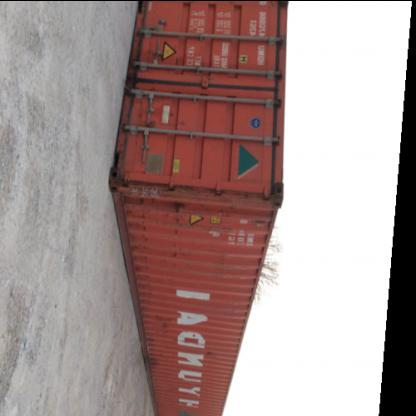Damage: (137, 194, 156, 266), (172, 198, 186, 264), (216, 202, 247, 226), (149, 340, 165, 380), (166, 106, 189, 130), (160, 310, 178, 338), (143, 113, 159, 133), (207, 343, 214, 363), (190, 328, 200, 338)
